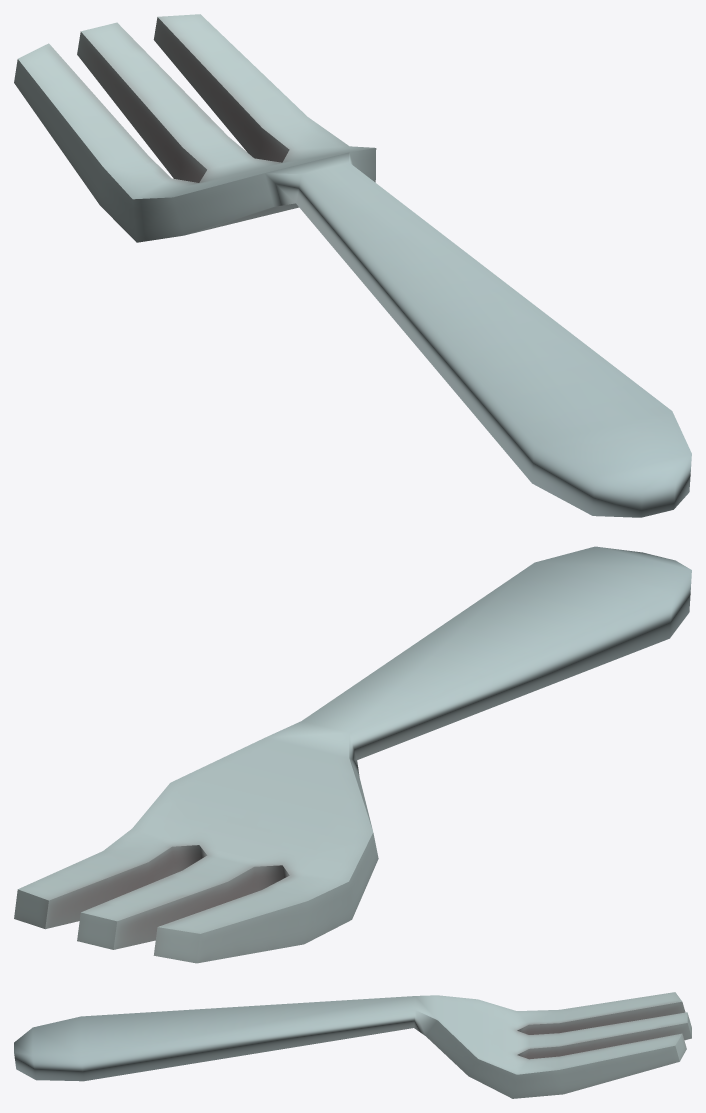
The model's file is fork_01.fbx.
3 renders of one model, top to bottom at view 1: azimuth 30°, elevation 25°; view 2: azimuth 150°, elevation 25°; view 3: azimuth 270°, elevation 25°, orthographic. The views are drawn at different scales.
Visible parts, largest first — view 1: fork_01; view 2: fork_01; view 3: fork_01.
Boxes of the visible parts, x1,y1,x2,y2 form: fork_01: (14,14,691,517); fork_01: (14,546,691,963); fork_01: (14,992,691,1098).
Bounding box in the file's own units: 8.17 × 3.86 × 36.79.
